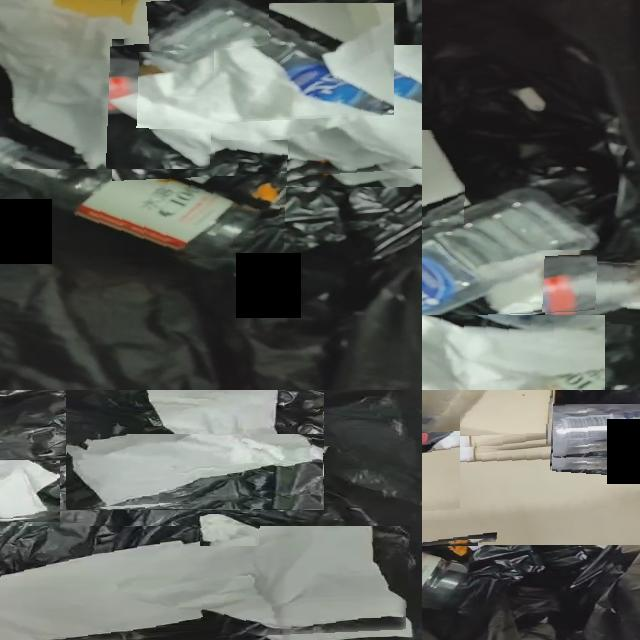bottle: (0, 140, 285, 261), (144, 3, 394, 118), (545, 262, 640, 324), (554, 404, 640, 457), (390, 61, 422, 119)
carton: (422, 455, 640, 545), (422, 390, 552, 446)
dixie_cup: (29, 0, 196, 45)
paper: (0, 526, 407, 640), (114, 45, 422, 174), (0, 0, 215, 169), (66, 390, 322, 509), (67, 434, 324, 508), (422, 316, 605, 390), (479, 250, 597, 315), (191, 0, 269, 50), (0, 460, 60, 520), (422, 130, 466, 210), (200, 514, 260, 546), (552, 430, 600, 457), (422, 531, 497, 545)
